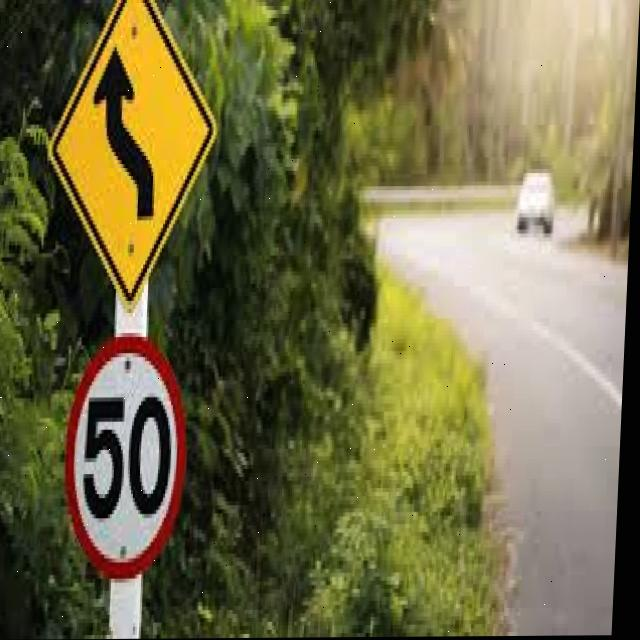Speed limit 50: (63, 330, 197, 580)
